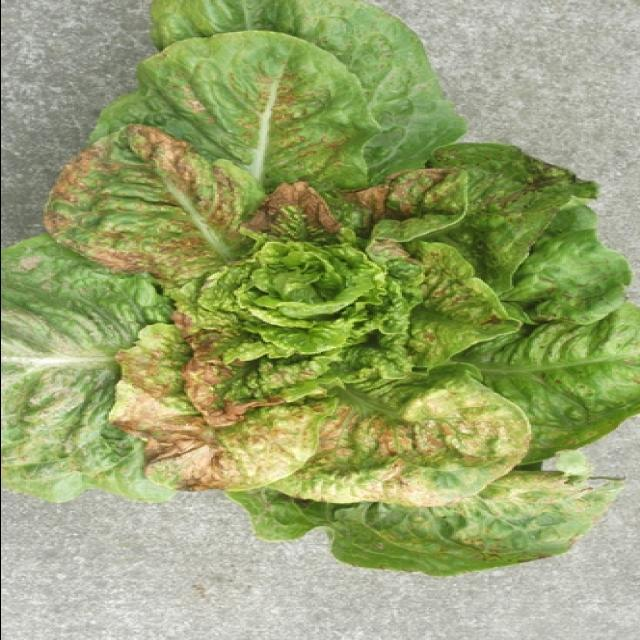Lettuce: (8, 2, 640, 582)
